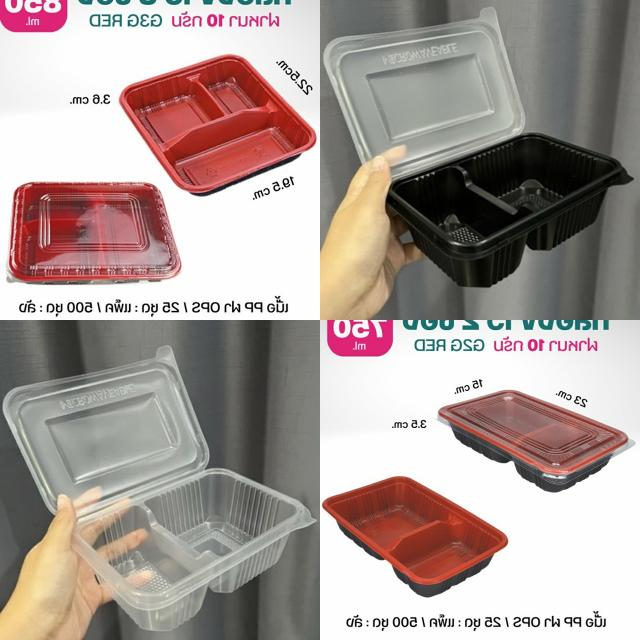Single-Use-Plastic: (74, 469, 314, 631), (389, 134, 631, 287), (324, 8, 525, 179), (4, 346, 209, 511), (120, 55, 316, 195), (322, 476, 508, 596), (439, 390, 634, 492), (8, 182, 181, 283)
